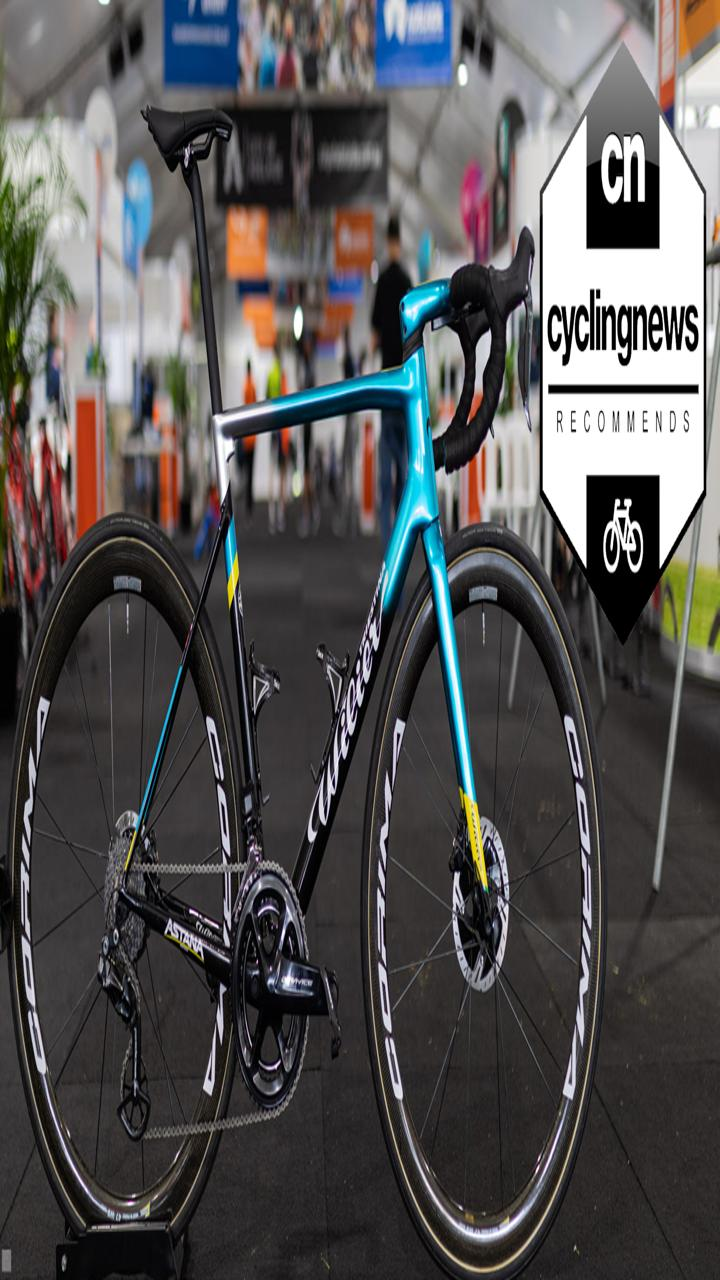bicycle: (24, 87, 579, 1260)
